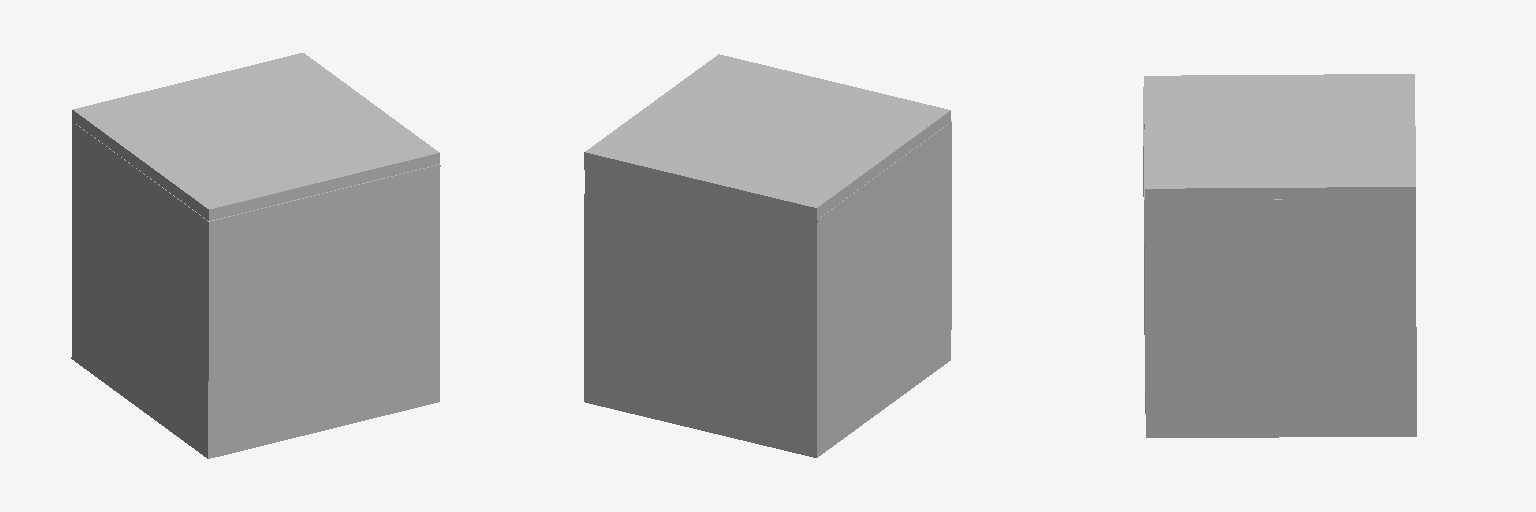
The model's file is FM_counter_corner_2.obj.
The picture shows the model from 3 angles: view 1: azimuth 30°, elevation 25°; view 2: azimuth 150°, elevation 25°; view 3: azimuth 270°, elevation 25°; orthographic projection.
Visible parts, largest first — view 1: Cube.004, Cube.006; view 2: Cube.004, Cube.006; view 3: Cube.004, Cube.006.
Boxes of the visible parts, x1,y1,x2,y2 form: Cube.004: [71, 122, 440, 458]; Cube.006: [72, 53, 439, 220]; Cube.004: [584, 121, 951, 457]; Cube.006: [584, 54, 950, 225]; Cube.004: [1143, 87, 1416, 437]; Cube.006: [1144, 74, 1415, 199].
Size of the model in its own units: 0.9922 by 1.02 by 1.01.